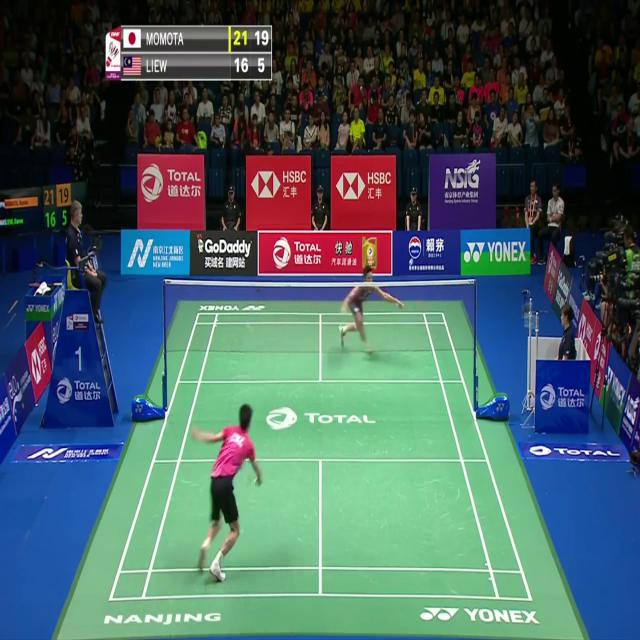Shuttlecock: (407, 256, 414, 268)
